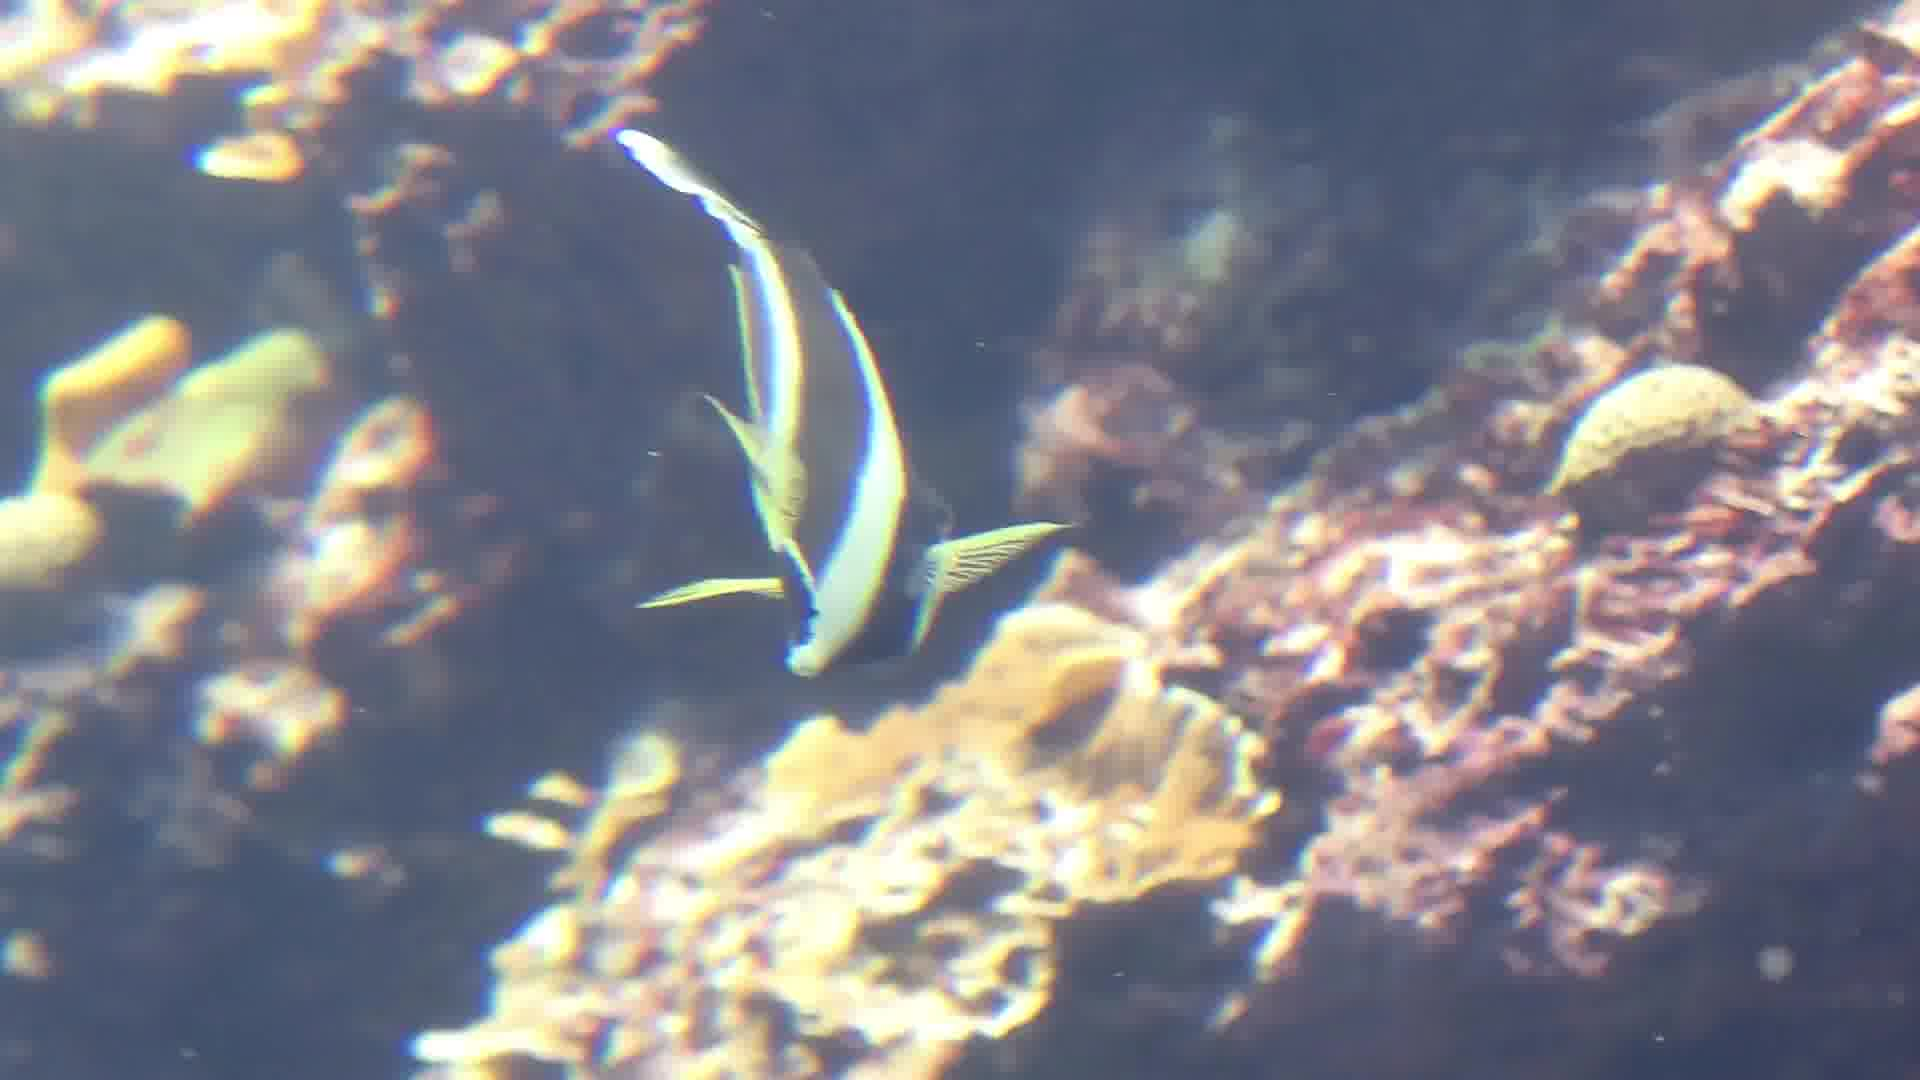Heniochus chrysostomus: (583, 22, 1120, 789)
